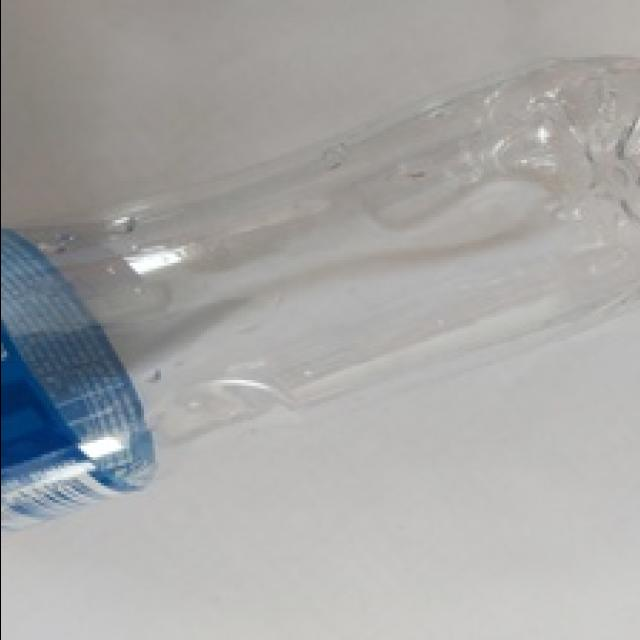寶特瓶: (0, 37, 635, 591)
